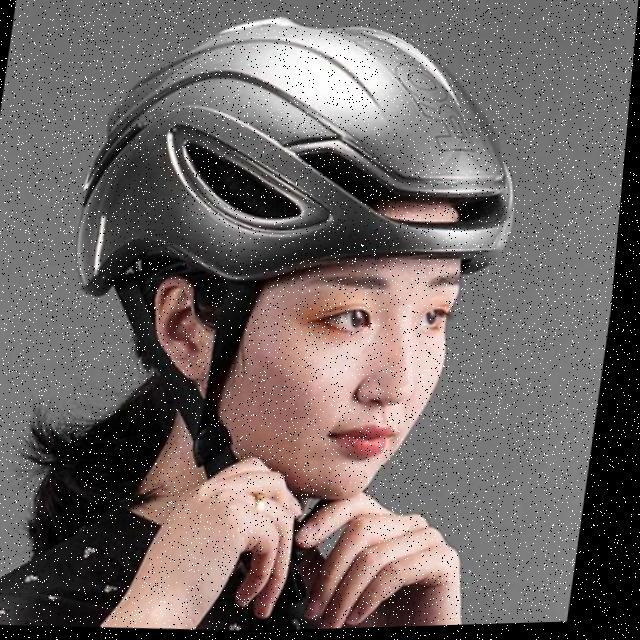illegal_helmet: (36, 0, 554, 520)
